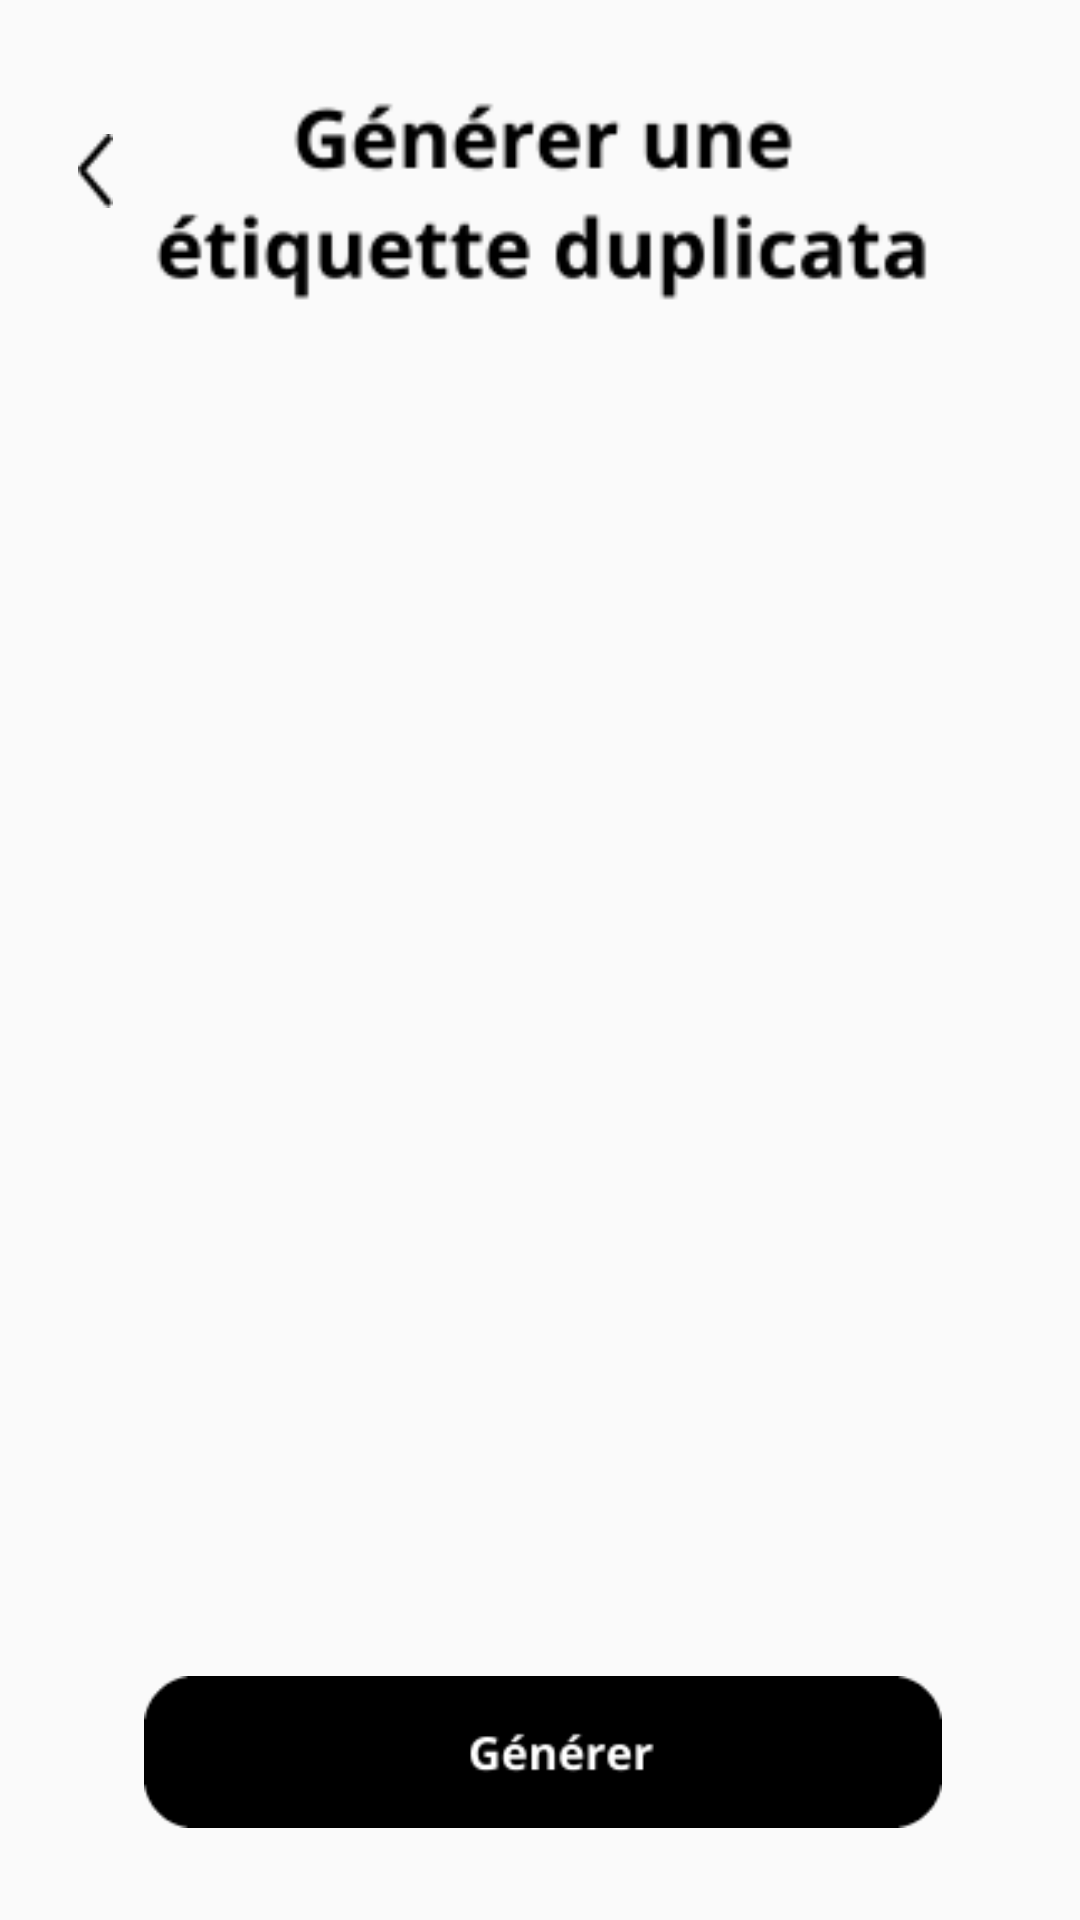

Where to tap for icons on this 1080x1920 app screen, as (x=x, y=y):
back: (x=95, y=171)
